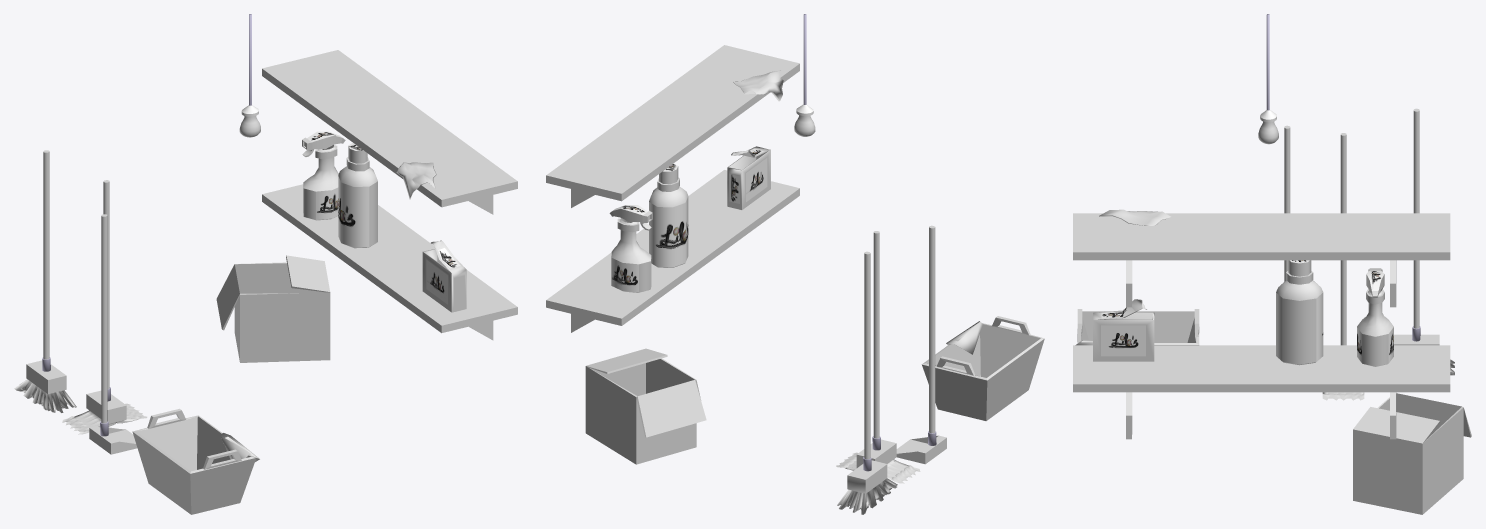
The model's file is BroomCloset.fbx.
3 renders of one model, left to right at view 1: azimuth 30°, elevation 25°; view 2: azimuth 150°, elevation 25°; view 3: azimuth 270°, elevation 25°, orthographic. The views are drawn at different scales.
Parts seen in each view (by area): view 1: Shelves, Box, Bucket, CleaningFluid, Broom, GlassFluid, Dustpan, SoapBox, Mop, Cloth, Light; view 2: Shelves, Box, Bucket, CleaningFluid, Broom, GlassFluid, Mop, Dustpan, SoapBox, Light, Cloth, WetCloth; view 3: Shelves, Box, CleaningFluid, SoapBox, GlassFluid, Bucket, Broom, Mop, Light, Cloth, Dustpan.
Part boxes in pixels (left/top/right/bottom): Shelves: left=262, top=50, right=517, bottom=340; Box: left=216, top=255, right=330, bottom=362; Bucket: left=132, top=408, right=256, bottom=514; CleaningFluid: left=338, top=143, right=377, bottom=248; Broom: left=14, top=150, right=76, bottom=412; GlassFluid: left=302, top=131, right=345, bottom=220; Dustpan: left=89, top=214, right=137, bottom=454; SoapBox: left=422, top=240, right=466, bottom=312; Mop: left=62, top=180, right=147, bottom=434; Cloth: left=396, top=162, right=436, bottom=199; Light: left=239, top=14, right=260, bottom=137; Shelves: left=546, top=45, right=799, bottom=332; Box: left=585, top=348, right=706, bottom=464; Bucket: left=921, top=316, right=1044, bottom=420; CleaningFluid: left=649, top=163, right=688, bottom=267; Broom: left=837, top=251, right=897, bottom=514; GlassFluid: left=609, top=205, right=652, bottom=292; Mop: left=836, top=231, right=920, bottom=483; Dustpan: left=896, top=225, right=946, bottom=464; SoapBox: left=727, top=146, right=770, bottom=209; Light: left=794, top=14, right=815, bottom=136; Cloth: left=733, top=70, right=783, bottom=101; WetCloth: left=946, top=321, right=982, bottom=354; Shelves: left=1073, top=213, right=1450, bottom=439; Box: left=1353, top=393, right=1471, bottom=514; CleaningFluid: left=1276, top=260, right=1323, bottom=365; SoapBox: left=1093, top=299, right=1154, bottom=361; GlassFluid: left=1357, top=268, right=1393, bottom=366; Bucket: left=1077, top=309, right=1199, bottom=345; Broom: left=1394, top=108, right=1454, bottom=375; Mop: left=1322, top=133, right=1364, bottom=400; Light: left=1258, top=14, right=1278, bottom=144; Cloth: left=1099, top=209, right=1171, bottom=225; Dustpan: left=1284, top=125, right=1290, bottom=281.
Bounding box in the file's own units: 337 × 400 × 340.
